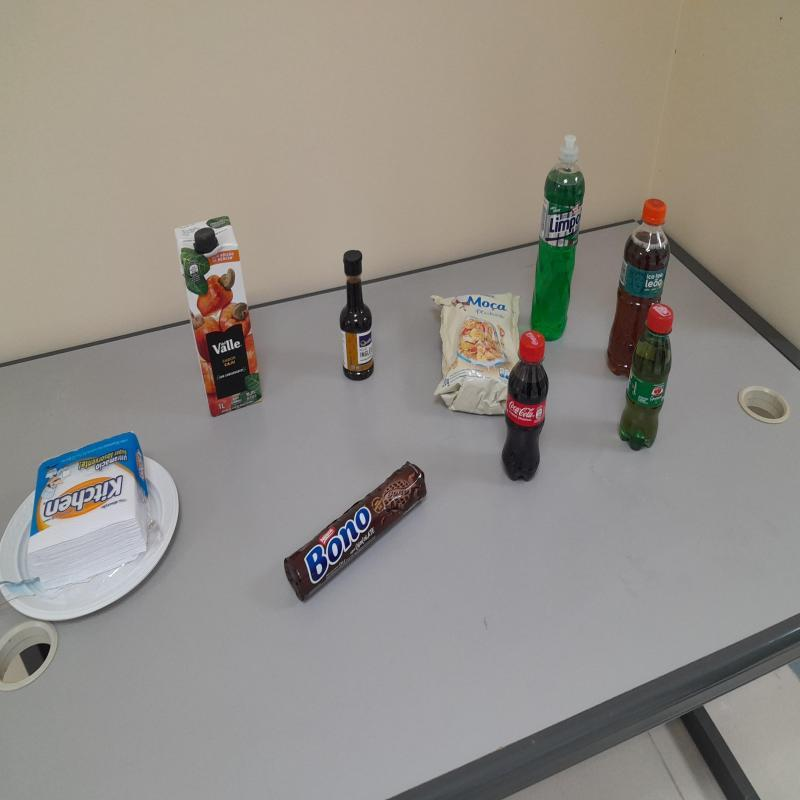Cleaner: (528, 135, 588, 340)
Coke: (504, 331, 550, 479)
Cookies: (287, 463, 430, 612)
CornFlakes: (433, 285, 520, 416)
EnglishSauce: (340, 252, 376, 381)
Guarana: (621, 305, 673, 449)
IceTea: (606, 199, 670, 376)
